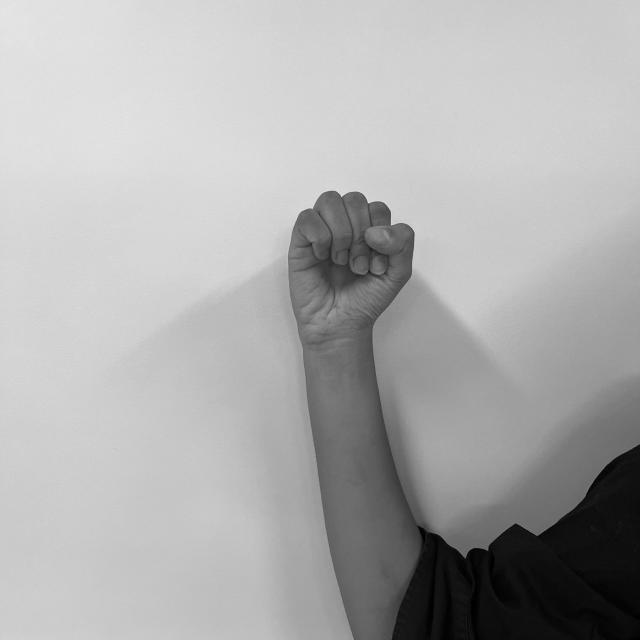Letra S: (281, 182, 421, 346)
